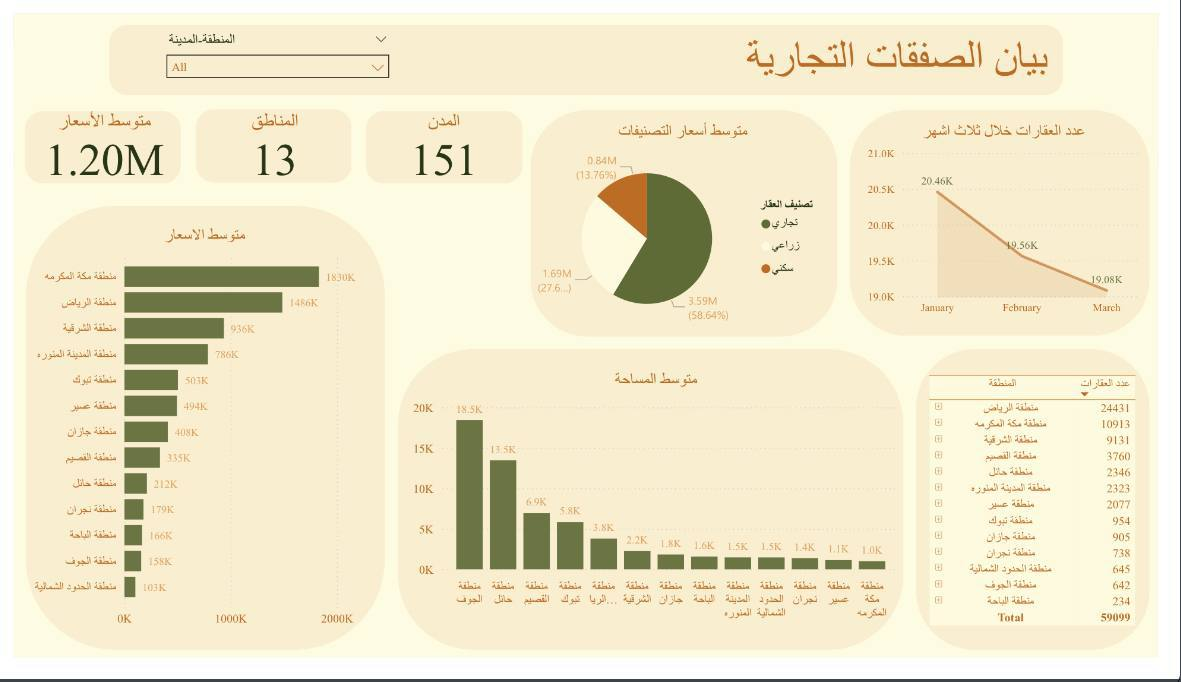

The dashboard page shown, as its layout file describes it:
{"tool":"powerbi","page":{"name":"Page 1","canvas":[1280,720],"ordinal":0},"visuals":[{"type":"shape","box":[578.3,108.4,342.7,253],"z":0},{"type":"shape","box":[430,375.5,570.9,335.5],"z":2000},{"type":"shape","box":[202,104,174,90],"z":3000},{"type":"shape","box":[14,104,174,90],"z":3500},{"type":"shape","box":[935,108.3,335,251.7],"z":4000},{"type":"shape","box":[394,104,174,90],"z":4500},{"type":"card","title":"متوسط الأسعار ","fields":{"Values":["Avg(ROWDATA.السعر)"]},"box":[11,108,176,81],"z":5000},{"type":"pieChart","title":"متوسط أسعار التصنيفات ","fields":{"Category":["ROWDATA.تصنيف العقار"],"Y":["Avg(ROWDATA.السعر)"]},"box":[576.2,121.2,345,240],"z":6000},{"type":"shape","box":[14.4,215.6,407.8,495.6],"z":7000},{"type":"clusteredBarChart","title":"متوسط الاسعار ","fields":{"Y":["Avg(ROWDATA.السعر)"],"Category":["ROWDATA.المنطقة Hierarchy.المنطقة","ROWDATA.المنطقة Hierarchy.المدينة","ROWDATA.المنطقة Hierarchy.المدينة / الحي"]},"box":[20,229,402,456],"z":8000},{"type":"clusteredColumnChart","title":"متوسط المساحة ","fields":{"Y":["Avg(ROWDATA.المساحة)"],"Category":["ROWDATA.المنطقة Hierarchy.المنطقة","ROWDATA.المنطقة Hierarchy.المدينة"]},"box":[440.9,398.2,553.6,287.3],"z":9000},{"type":"shape","box":[1003,364,262,336],"z":10000},{"type":"pivotTable","fields":{"Rows":["ROWDATA.2.المنطقة","ROWDATA.2.المدينة"],"Values":["CountNonNull(ROWDATA.عدد العقارات)"]},"box":[1018,390,247,310],"z":11000},{"type":"lineChart","title":"عدد العقارات خلال ثلاث اشهر","fields":{"Y":["CountNonNull(ROWDATA.عدد العقارات)"],"Category":["ROWDATA.تاريخ الصفقة ميلادي.Variation.Date Hierarchy.Month"]},"box":[949.9,121.4,315.2,222.7],"z":12000},{"type":"card","title":"المناطق","fields":{"Values":["Count(ROWDATA.المنطقة)"]},"box":[200,108,178,81],"z":13000},{"type":"card","title":"المدن ","fields":{"Values":["Count(ROWDATA.المدينة)"]},"box":[394,108,176,81],"z":14000},{"type":"shape","box":[107.2,13,1065.5,78.1],"z":15000},{"type":"textbox","box":[756,26,510,82],"z":16000},{"type":"slicer","fields":{"Values":["ROWDATA.2.المنطقة","ROWDATA.2.المدينة"]},"box":[161.2,16.2,268.8,62.5],"z":17000}]}

Visuals, with their boxes in screenshot pixels (x1, y1, x2, y2), scaled from the page's 1280x720 canvas onto the 1181x682 screenshot:
shape: {"left": 534, "top": 103, "right": 850, "bottom": 342}
shape: {"left": 397, "top": 356, "right": 923, "bottom": 673}
shape: {"left": 186, "top": 99, "right": 347, "bottom": 184}
shape: {"left": 13, "top": 99, "right": 173, "bottom": 184}
shape: {"left": 863, "top": 103, "right": 1172, "bottom": 341}
shape: {"left": 364, "top": 99, "right": 524, "bottom": 184}
"متوسط الأسعار " card: {"left": 10, "top": 102, "right": 173, "bottom": 179}
"متوسط أسعار التصنيفات " pieChart: {"left": 532, "top": 115, "right": 850, "bottom": 342}
shape: {"left": 13, "top": 204, "right": 390, "bottom": 674}
"متوسط الاسعار " clusteredBarChart: {"left": 18, "top": 217, "right": 389, "bottom": 649}
"متوسط المساحة " clusteredColumnChart: {"left": 407, "top": 377, "right": 918, "bottom": 649}
shape: {"left": 925, "top": 345, "right": 1167, "bottom": 663}
pivotTable - ROWDATA.2.المنطقة x ROWDATA.2.المدينة: {"left": 939, "top": 369, "right": 1167, "bottom": 663}
"عدد العقارات خلال ثلاث اشهر" lineChart: {"left": 876, "top": 115, "right": 1167, "bottom": 326}
"المناطق" card: {"left": 185, "top": 102, "right": 349, "bottom": 179}
"المدن " card: {"left": 364, "top": 102, "right": 526, "bottom": 179}
shape: {"left": 99, "top": 12, "right": 1082, "bottom": 86}
textbox: {"left": 698, "top": 25, "right": 1168, "bottom": 102}
slicer - ROWDATA.2.المنطقة x ROWDATA.2.المدينة: {"left": 149, "top": 15, "right": 397, "bottom": 75}
